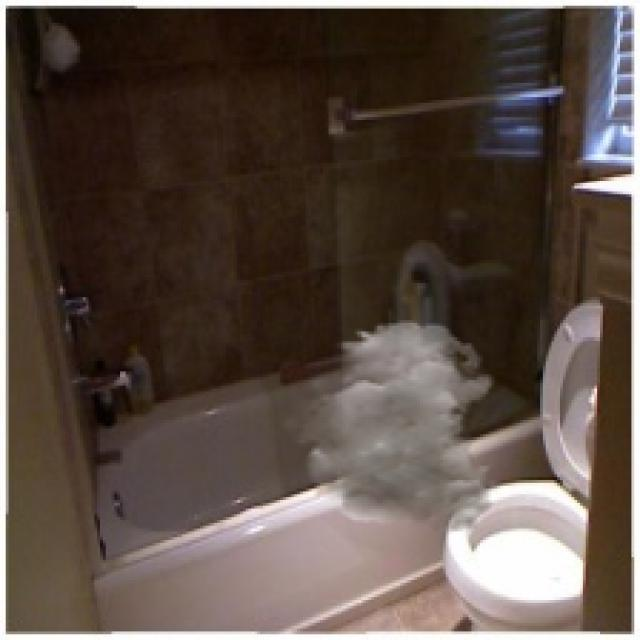Smoke: (280, 320, 500, 534)
